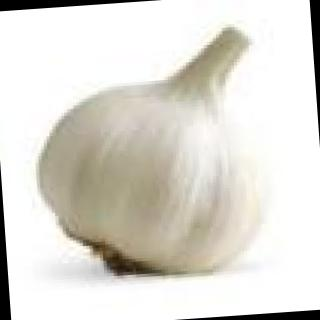Bawang Putih: (21, 22, 287, 285)
